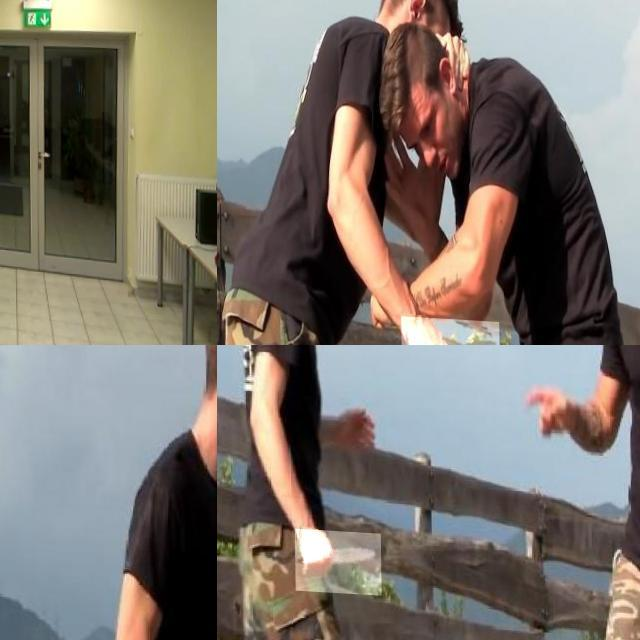-: (294, 526, 381, 592), (399, 311, 498, 345)
gun-knife-thesis - v11 Yolov5 augmented: (0, 125, 19, 162)
